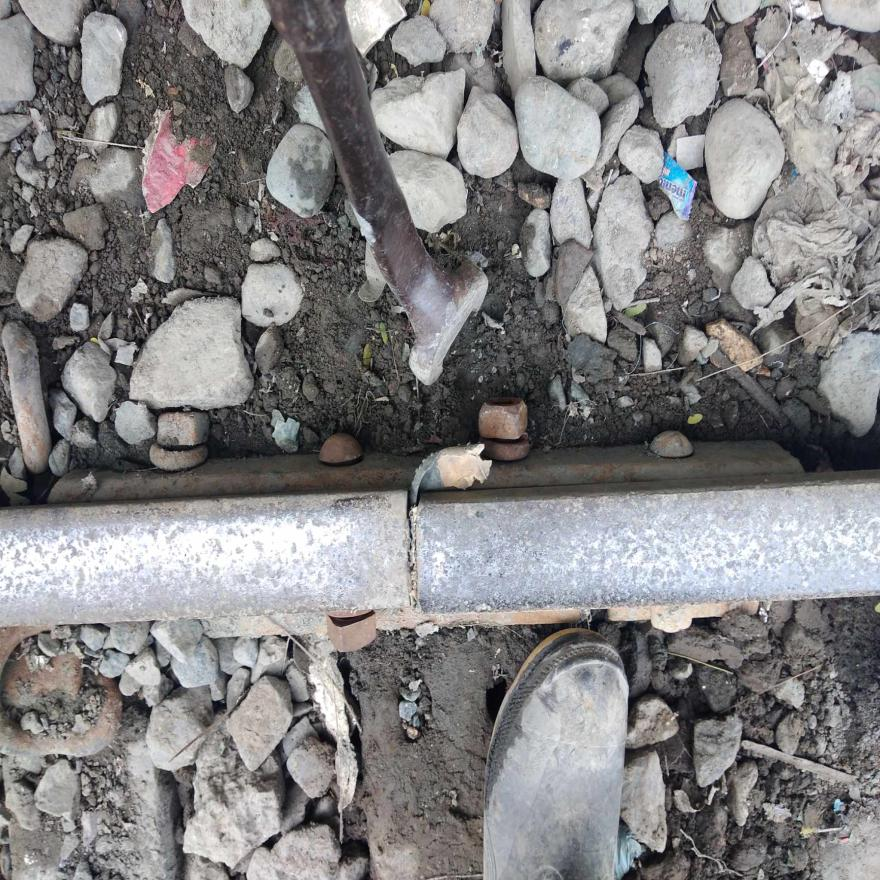railway-gap: (342, 462, 479, 652)
